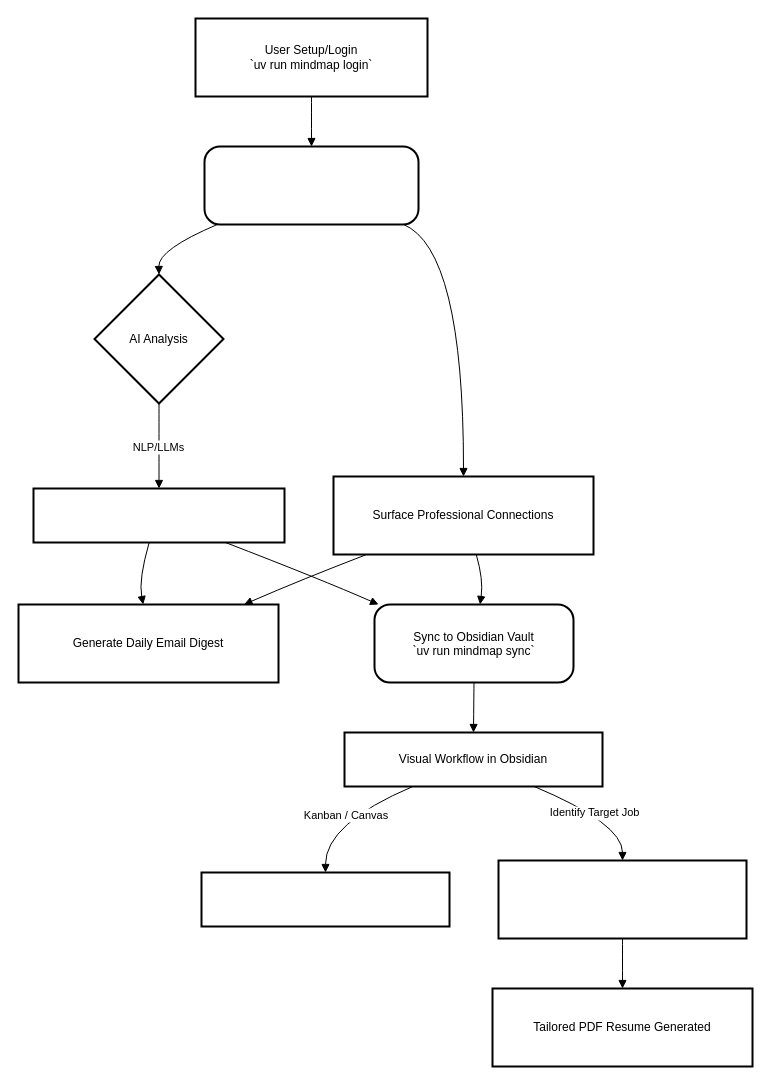
This 770x1084 diagram has some shape labels left out. The box of each missing label's shape, as (x1, y1, x2, y2) in pixels:
Automated Job Discovery `uv run mindmap scrape`: (203, 145, 419, 225)
Manage Application Status: (200, 871, 450, 927)
Score Jobs against Resume: (32, 487, 285, 543)
Targeted Resume Tailoring `uv run mindmap tailor`: (497, 859, 747, 939)
